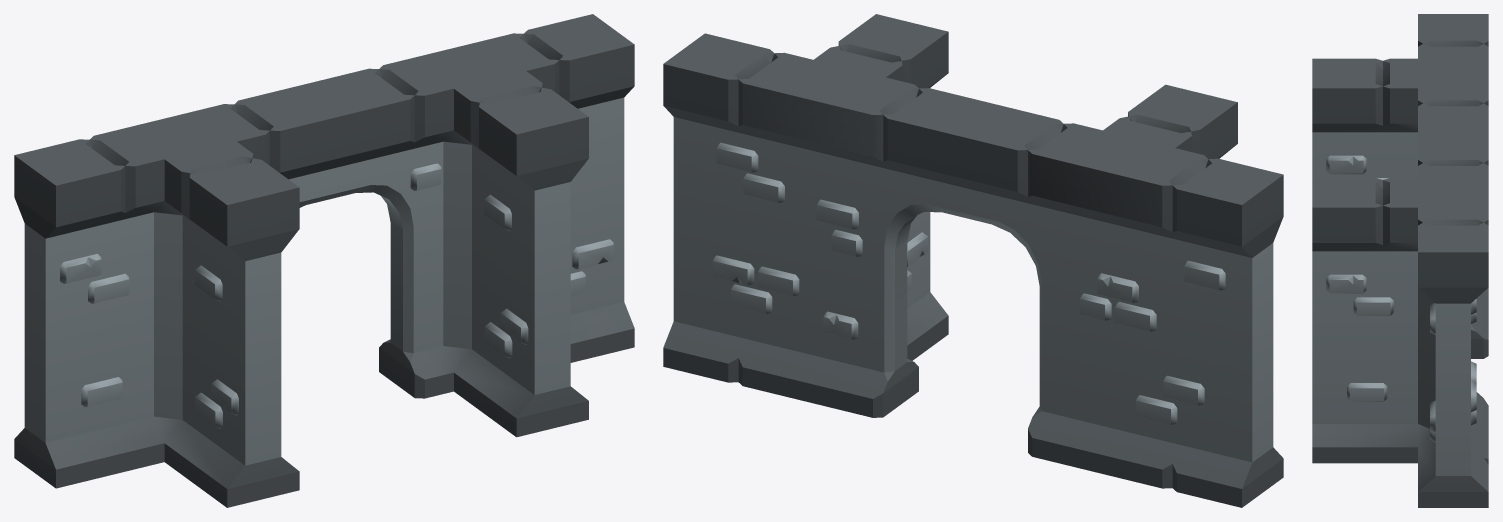
File: wall_doorway_Tsplit.gltf
3 views of the same model, side by side, from view 1: azimuth 30°, elevation 25°; view 2: azimuth 150°, elevation 25°; view 3: azimuth 270°, elevation 25° (orthographic). The views are drawn at different scales.
Parts seen in each view (by area): view 1: wall_doorway_Tsplit; view 2: wall_doorway_Tsplit; view 3: wall_doorway_Tsplit.
Boxes of the visible parts, <box> form: wall_doorway_Tsplit: <box>14,14,634,507</box>; wall_doorway_Tsplit: <box>663,14,1283,507</box>; wall_doorway_Tsplit: <box>1312,14,1488,507</box>.
Size of the model in its own units: 8 by 4 by 2.5.
1 material, 1 textured.
